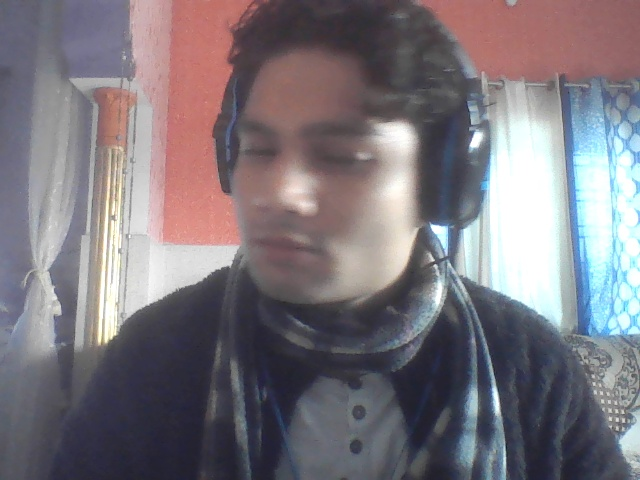real: (203, 0, 462, 367)
